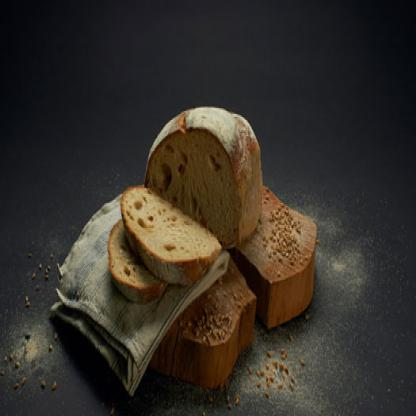bread: (120, 185, 222, 281), (108, 218, 168, 304)
bread_loaf: (144, 108, 262, 246)
